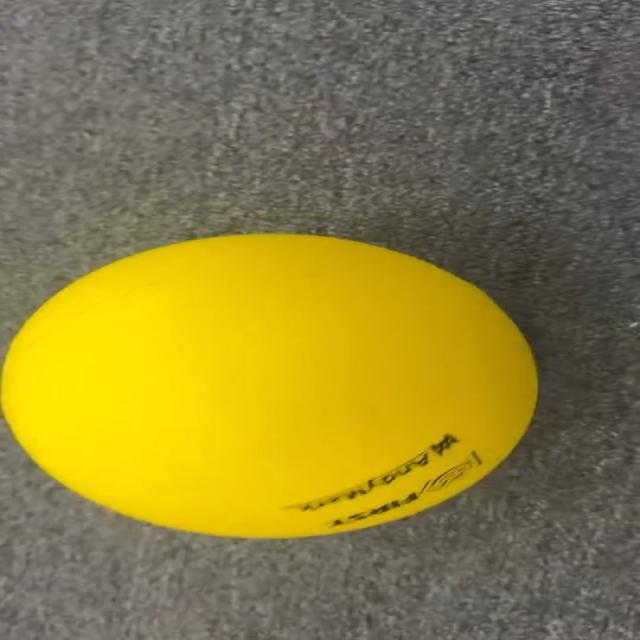Fuels: (6, 237, 537, 535)
